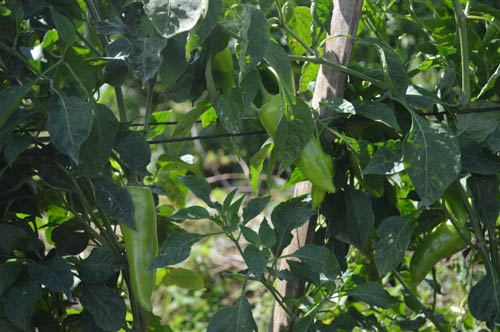ChiliPepper: (262, 96, 333, 189), (119, 188, 159, 310), (410, 224, 471, 282)
